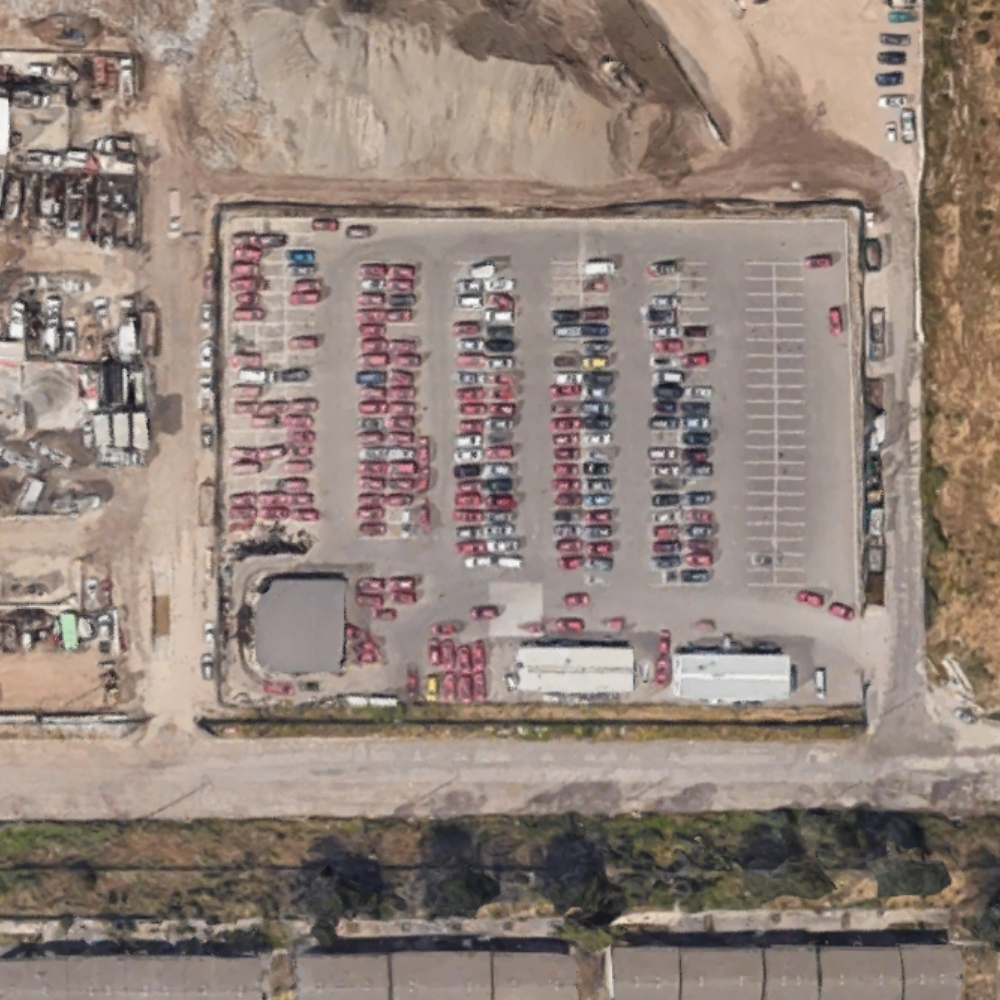parking: (230, 220, 860, 700)
